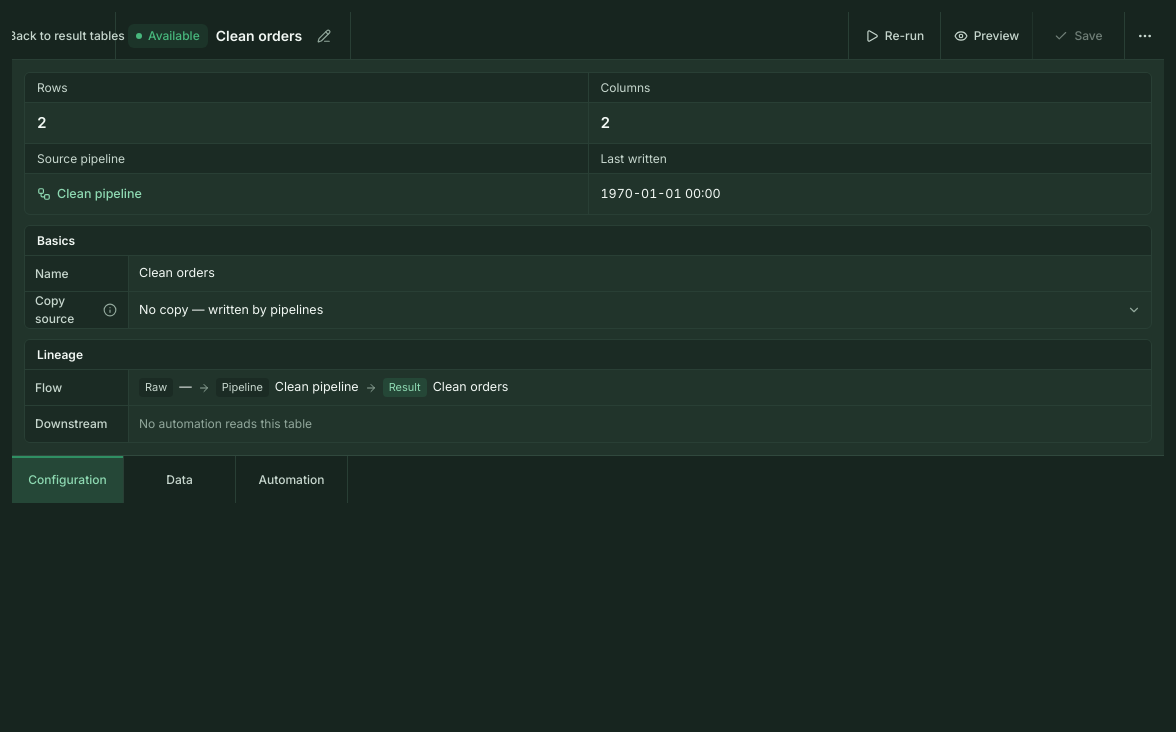
Test: ResultTableEditor › shows the preview grid after switching to the data tab
This screenshot has width=1176, height=732.
Click the tab "Data" at (180, 480), box [124,456,236,503]
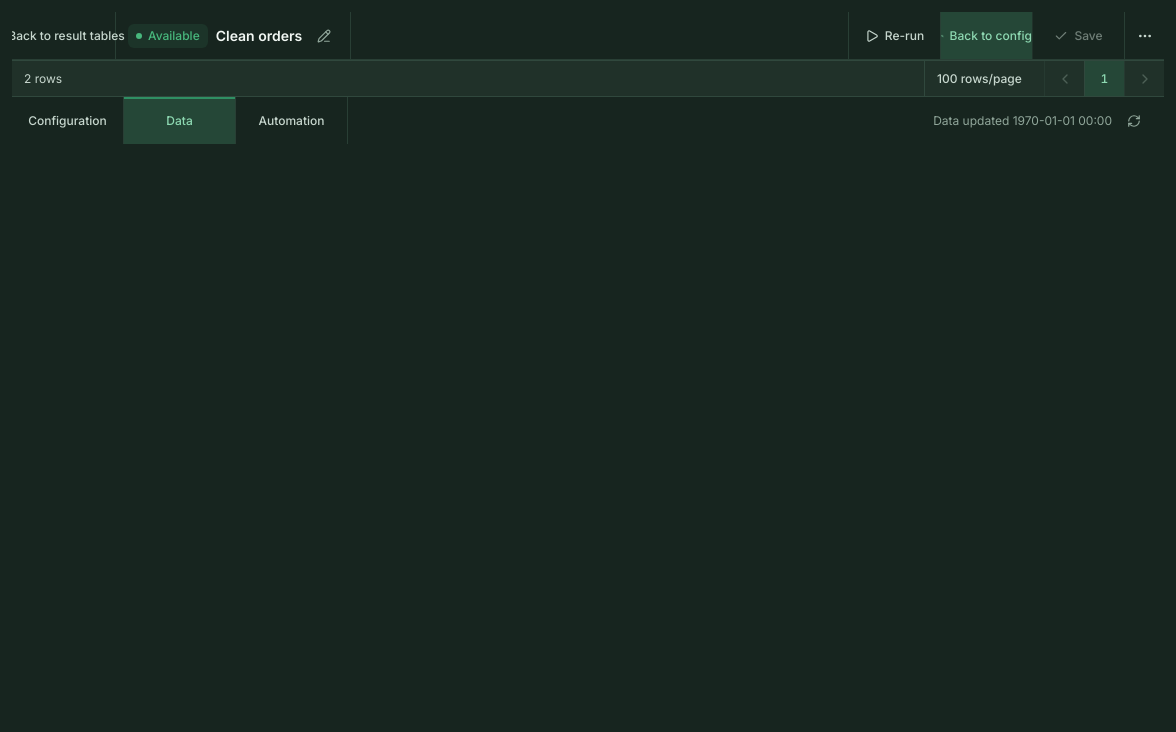
Expected: the text "2 rows" is shown, [24,70,62,86]
Expected: the element showing "2 rows 100 rows/page 1" is shown, [12,60,1164,96]
